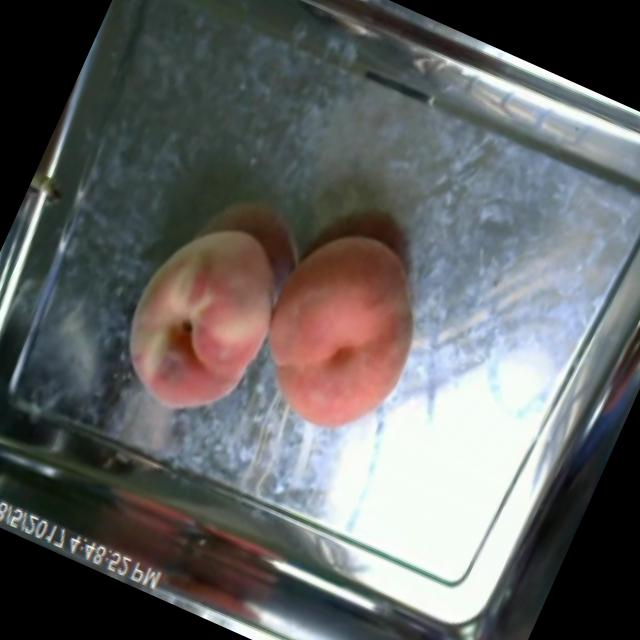Fruit: (225, 200, 461, 463), (96, 196, 312, 442)
